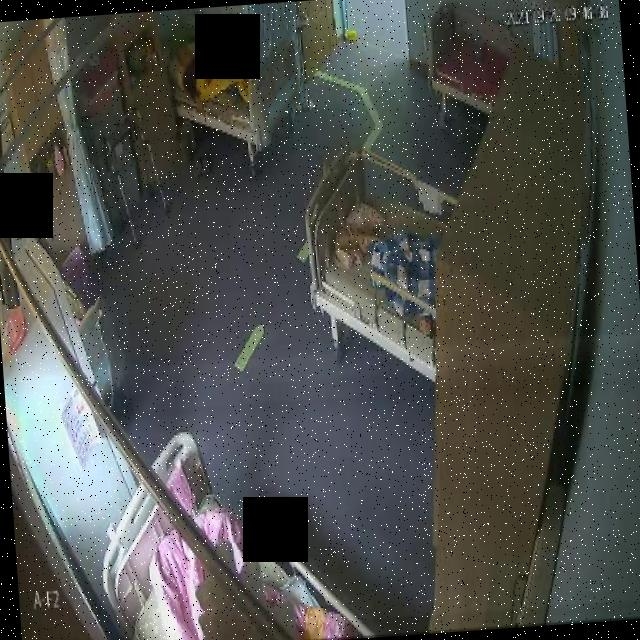bed: (93, 422, 340, 640), (298, 136, 448, 388), (166, 19, 302, 154), (412, 0, 509, 108)
